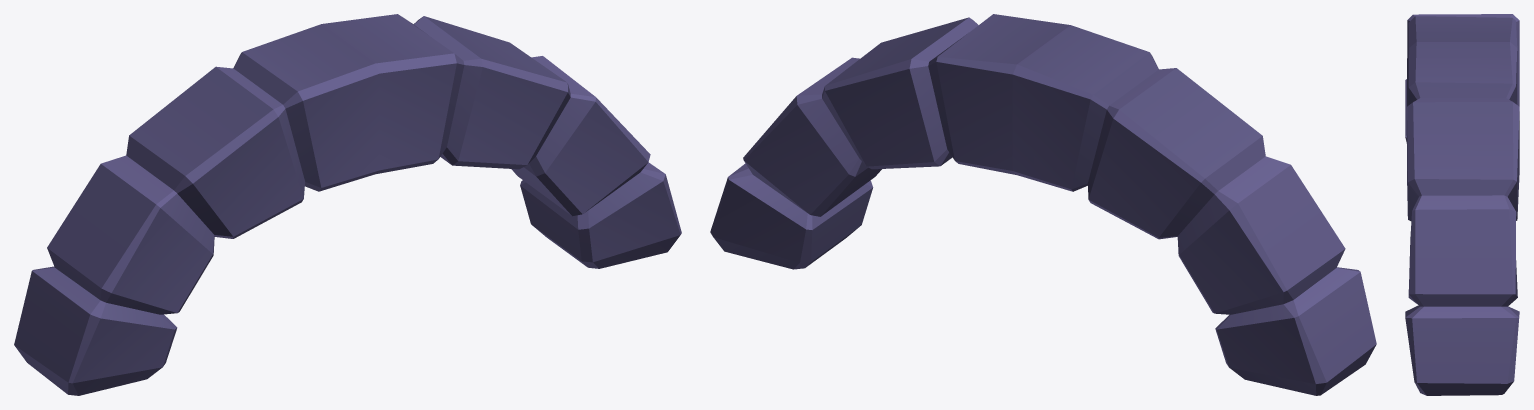
Rendered from arch.001.glb.
3 views of the same model, side by side, from view 1: azimuth 30°, elevation 25°; view 2: azimuth 150°, elevation 25°; view 3: azimuth 270°, elevation 25° (orthographic). The views are drawn at different scales.
Visible parts, largest first — view 1: arch.001; view 2: arch.001; view 3: arch.001.
Part boxes in pixels (box(x1,y1,x2,y2)): arch.001: box(14, 14, 681, 395); arch.001: box(710, 14, 1376, 395); arch.001: box(1405, 14, 1519, 395).
Bounding box in the file's own units: 8.28 × 3.36 × 1.54.
1 material, 1 textured.
